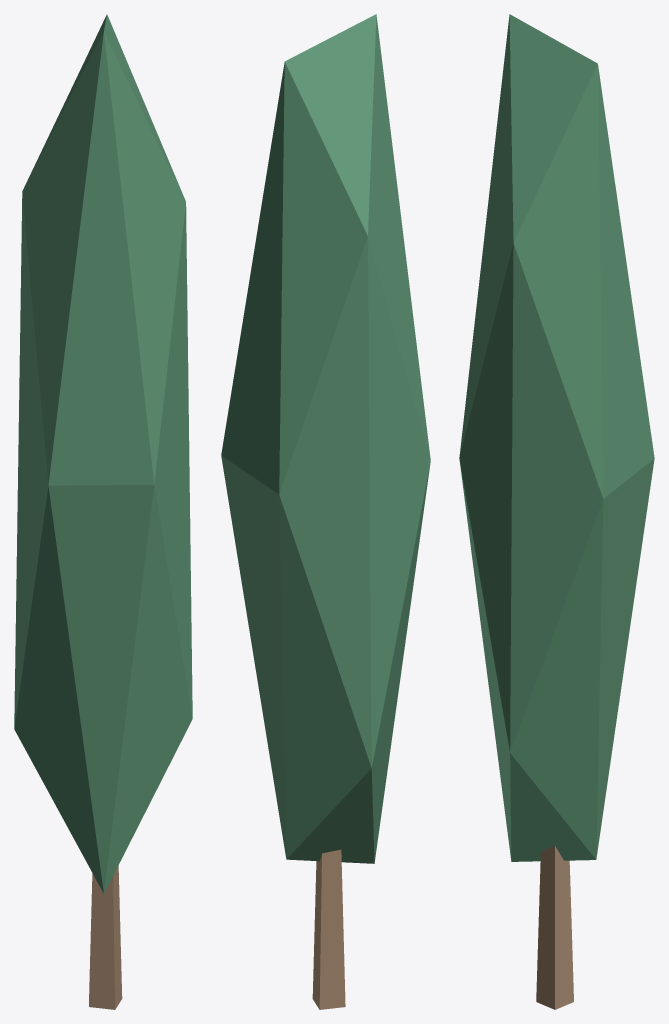
File: cipreste_1_lod.fbx
3 views of the same model, side by side, from view 1: azimuth 30°, elevation 25°; view 2: azimuth 150°, elevation 25°; view 3: azimuth 270°, elevation 25° (orthographic).
Parts seen in each view (by area): view 1: cipreste_1_lod~Copa@cypress, cipreste_1_lod~Tronco@bark; view 2: cipreste_1_lod~Copa@cypress, cipreste_1_lod~Tronco@bark; view 3: cipreste_1_lod~Copa@cypress, cipreste_1_lod~Tronco@bark.
Boxes of the visible parts, x1,y1,x2,y2 form: cipreste_1_lod~Copa@cypress: (14, 14, 192, 893); cipreste_1_lod~Tronco@bark: (89, 865, 122, 1009); cipreste_1_lod~Copa@cypress: (221, 14, 430, 863); cipreste_1_lod~Tronco@bark: (312, 849, 345, 1009); cipreste_1_lod~Copa@cypress: (459, 14, 654, 861); cipreste_1_lod~Tronco@bark: (536, 846, 573, 1009).
Size of the model in its own units: 1.78 by 10.23 by 1.86.
